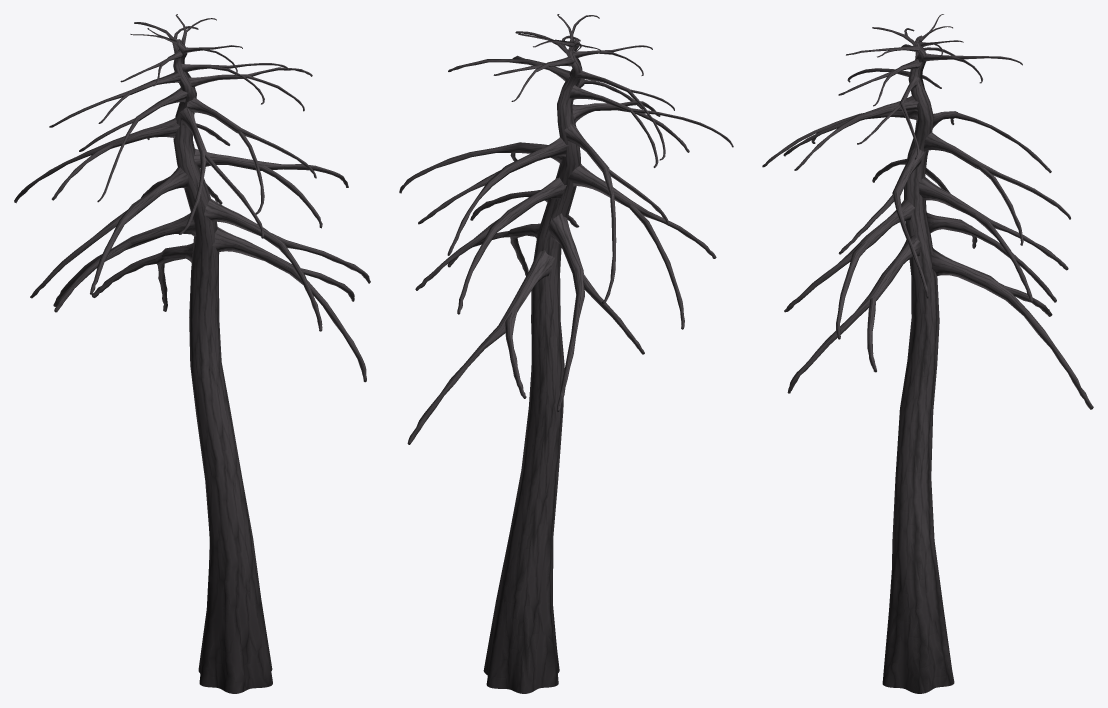
The model's file is Dead_Tree.gltf.
The picture shows the model from 3 angles, left to right: view 1: azimuth 30°, elevation 25°; view 2: azimuth 150°, elevation 25°; view 3: azimuth 270°, elevation 25°; orthographic projection. The views are drawn at different scales.
Parts seen in each view (by area): view 1: DeadTree_3; view 2: DeadTree_3; view 3: DeadTree_3.
Boxes of the visible parts, x1,y1,x2,y2 form: DeadTree_3: (14, 14, 370, 693); DeadTree_3: (399, 14, 733, 693); DeadTree_3: (762, 14, 1093, 693).
Size of the model in its own units: 6.39 by 13.28 by 6.43.
1 material, 1 textured.
